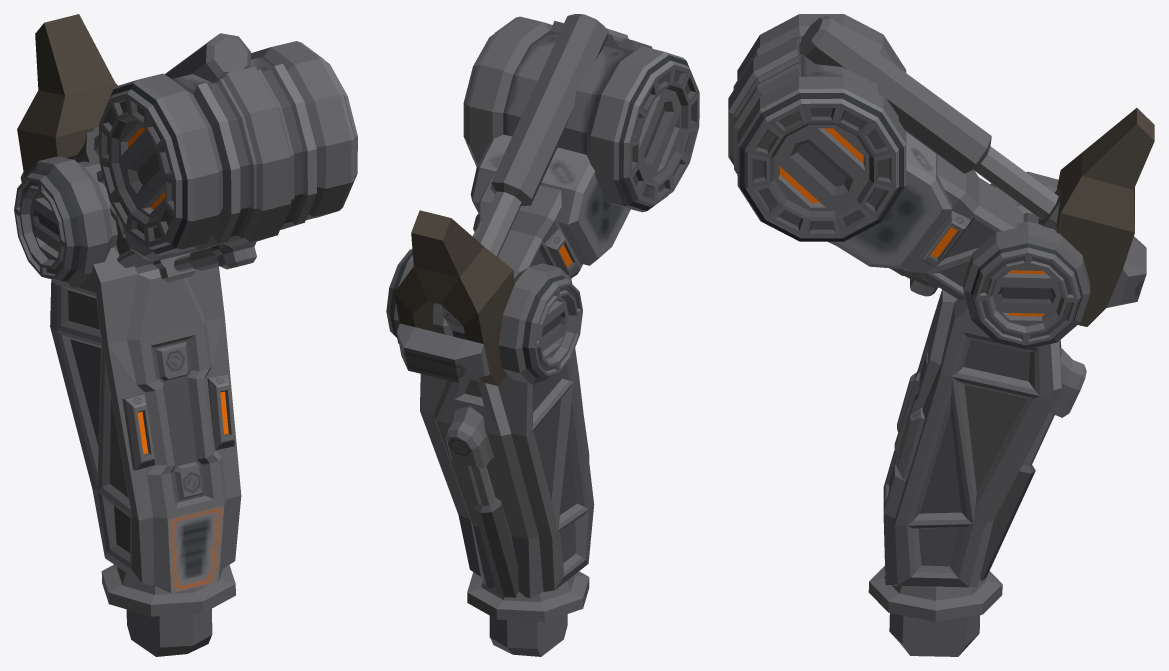
The model's file is SM_Mech_LowerLeg_01_Frame_01.fbx.
3 views of the same model, side by side, from view 1: azimuth 30°, elevation 25°; view 2: azimuth 150°, elevation 25°; view 3: azimuth 270°, elevation 25° (orthographic). The views are drawn at different scales.
Parts seen in each view (by area): view 1: SM_Mech_LowerLeg_01_Frame_01; view 2: SM_Mech_LowerLeg_01_Frame_01; view 3: SM_Mech_LowerLeg_01_Frame_01.
Part boxes in pixels (left/top/right/bottom): SM_Mech_LowerLeg_01_Frame_01: left=14, top=14, right=357, bottom=656; SM_Mech_LowerLeg_01_Frame_01: left=386, top=14, right=699, bottom=656; SM_Mech_LowerLeg_01_Frame_01: left=728, top=14, right=1154, bottom=656.
Size of the model in its own units: 43.81 by 149 by 92.13.
